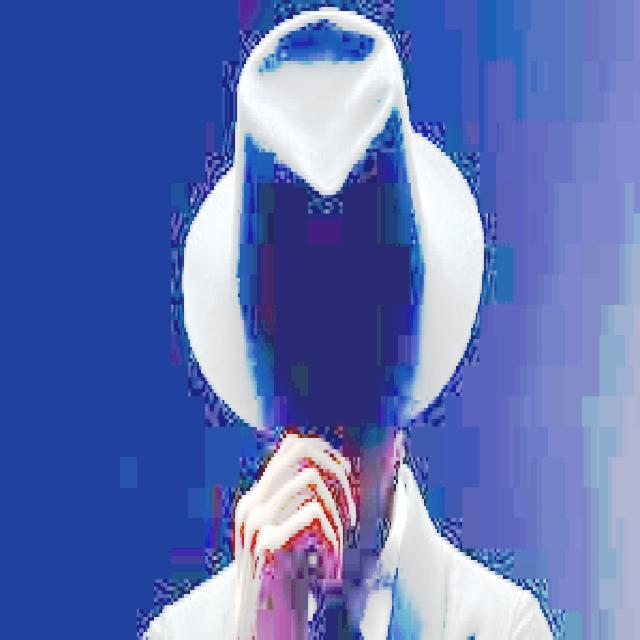TOPI: (182, 0, 482, 446)
